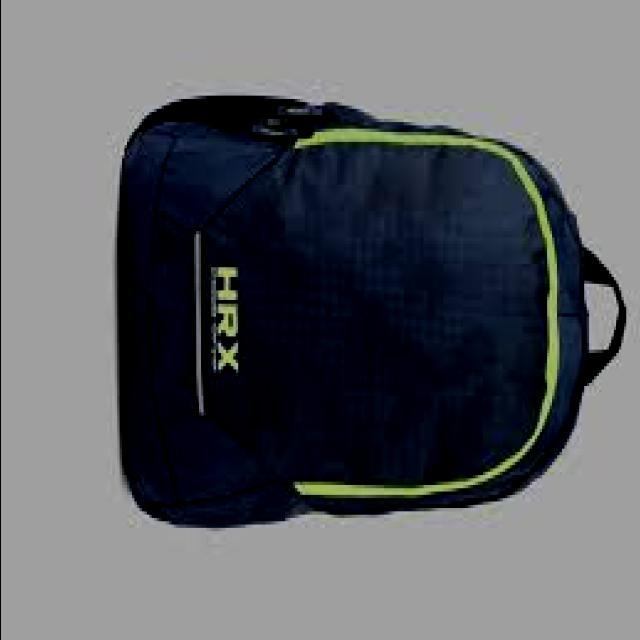backpack: (123, 93, 629, 529)
